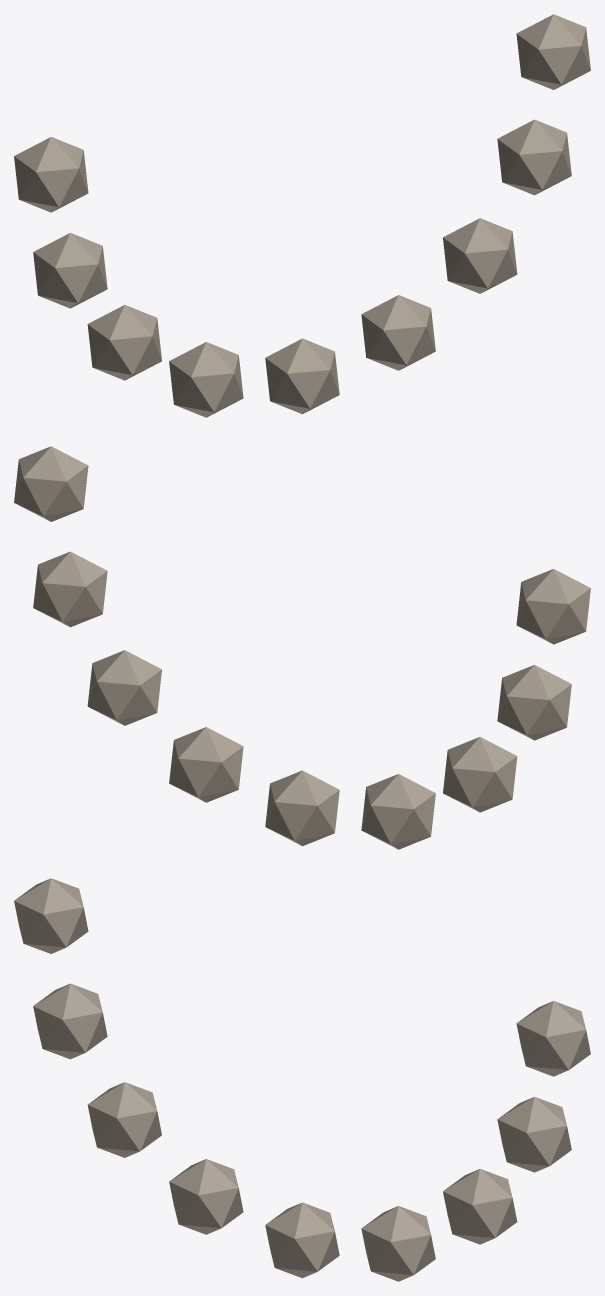
File: SM_NPC_Accessory_04_PilgrimBeads.glb
The picture shows the model from 3 angles, top to bottom: view 1: azimuth 30°, elevation 25°; view 2: azimuth 150°, elevation 25°; view 3: azimuth 330°, elevation 25°; orthographic projection.
Visible parts, largest first — view 1: SM_NPC_Accessory_04_PilgrimBeads; view 2: SM_NPC_Accessory_04_PilgrimBeads; view 3: SM_NPC_Accessory_04_PilgrimBeads.
Part boxes in pixels (<box>): SM_NPC_Accessory_04_PilgrimBeads: <box>14,14,590,417</box>; SM_NPC_Accessory_04_PilgrimBeads: <box>14,446,590,849</box>; SM_NPC_Accessory_04_PilgrimBeads: <box>14,878,590,1281</box>.
Size of the model in its own units: 0.4065 by 0.232 by 0.0442.
